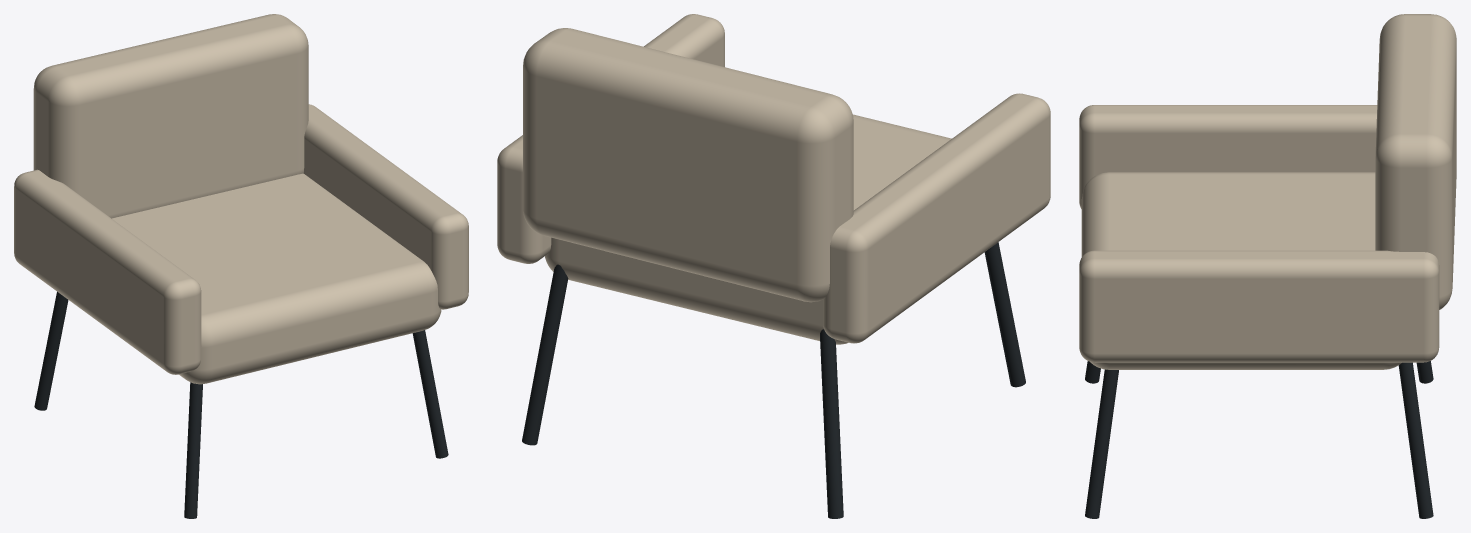
File: armchair-1.glb
3 renders of one model, left to right at view 1: azimuth 30°, elevation 25°; view 2: azimuth 150°, elevation 25°; view 3: azimuth 270°, elevation 25°, orthographic. The views are drawn at different scales.
Visible parts, largest first — view 1: armchair:1:archviz; view 2: armchair:1:archviz; view 3: armchair:1:archviz.
Part boxes in pixels (bbox=[...]): armchair:1:archviz: bbox=[14, 14, 468, 518]; armchair:1:archviz: bbox=[497, 14, 1050, 518]; armchair:1:archviz: bbox=[1079, 14, 1456, 518].
Size of the model in its own units: 0.76 by 0.8025 by 0.734.
